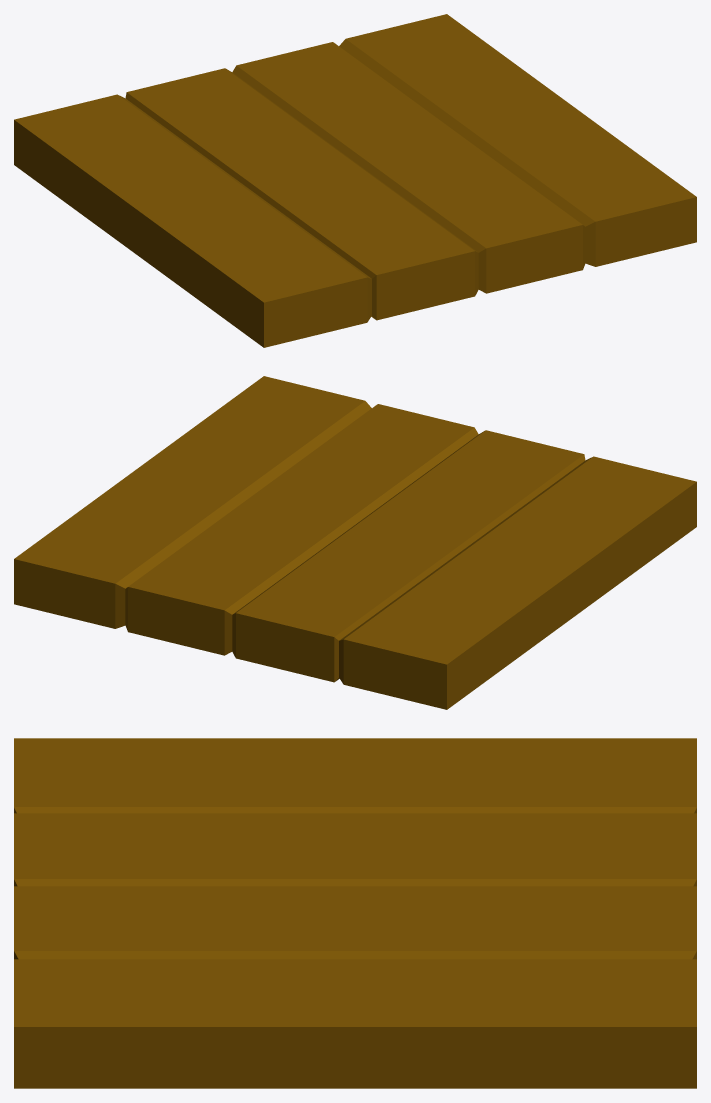
The model's file is Platform1.fbx.
3 renders of one model, top to bottom at view 1: azimuth 30°, elevation 25°; view 2: azimuth 150°, elevation 25°; view 3: azimuth 270°, elevation 25°, orthographic. The views are drawn at different scales.
Visible parts, largest first — view 1: Cube; view 2: Cube; view 3: Cube.
Boxes of the visible parts, x1,y1,x2,y2 form: Cube: [14, 14, 696, 347]; Cube: [14, 376, 696, 709]; Cube: [14, 738, 696, 1088].
Bounding box in the file's own units: 2 × 0.2 × 2.
